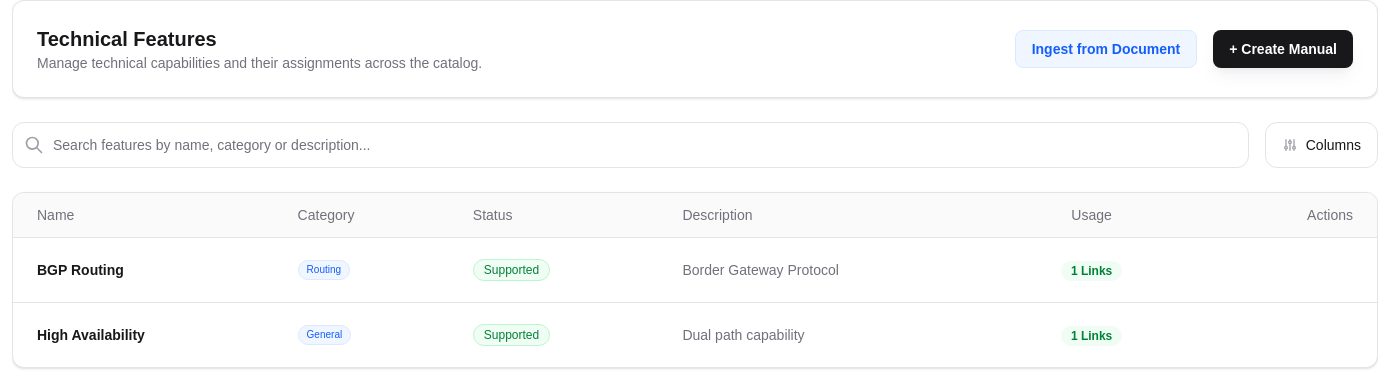
Test case: FeatureList Improvements › shows linked items when usage badge is clicked
Click the button "1 Links" in the row of "BGP Routing": (1092, 270) 1061,260 -> 1122,280
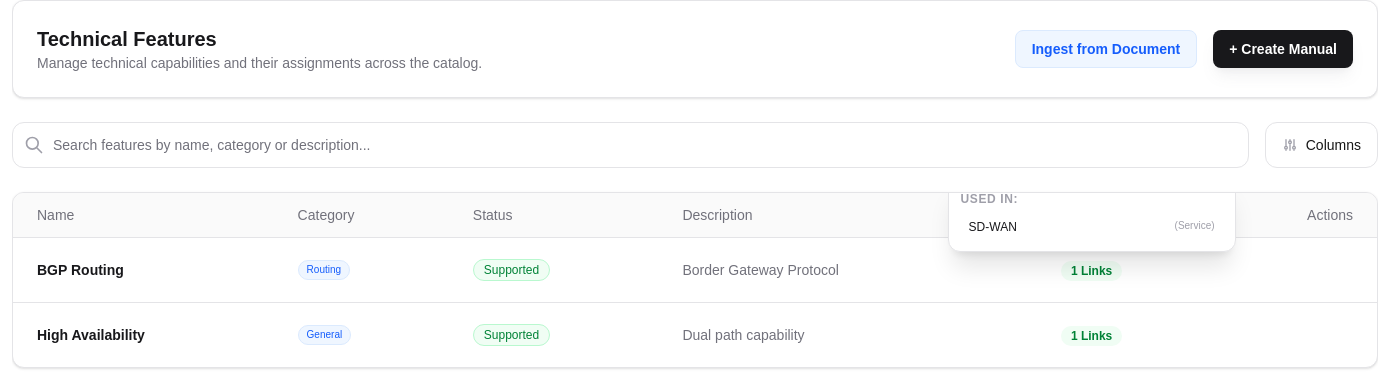
Now the text "SD-WAN" is shown, box 969,218 -> 1017,234
Now the text "(Service)" is shown, box 1174,218 -> 1214,232
